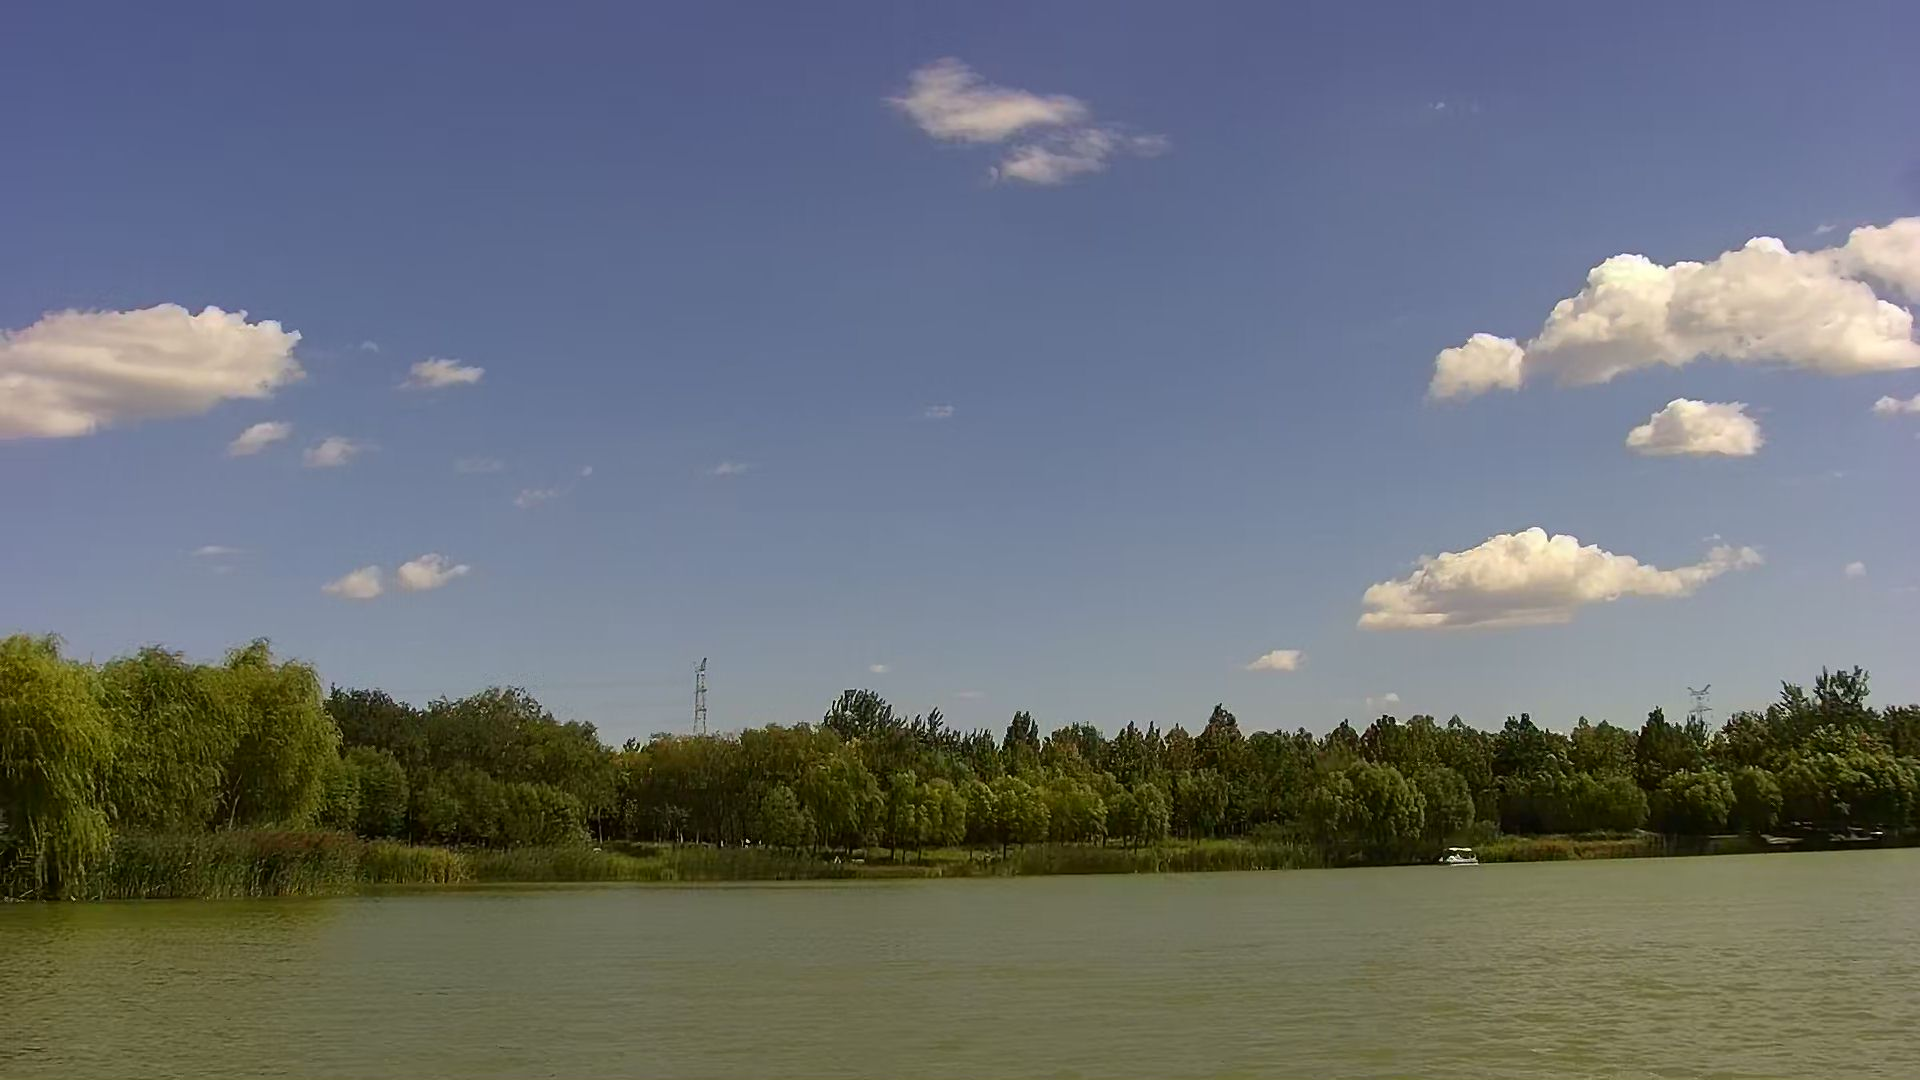boat: (1439, 845, 1482, 868)
